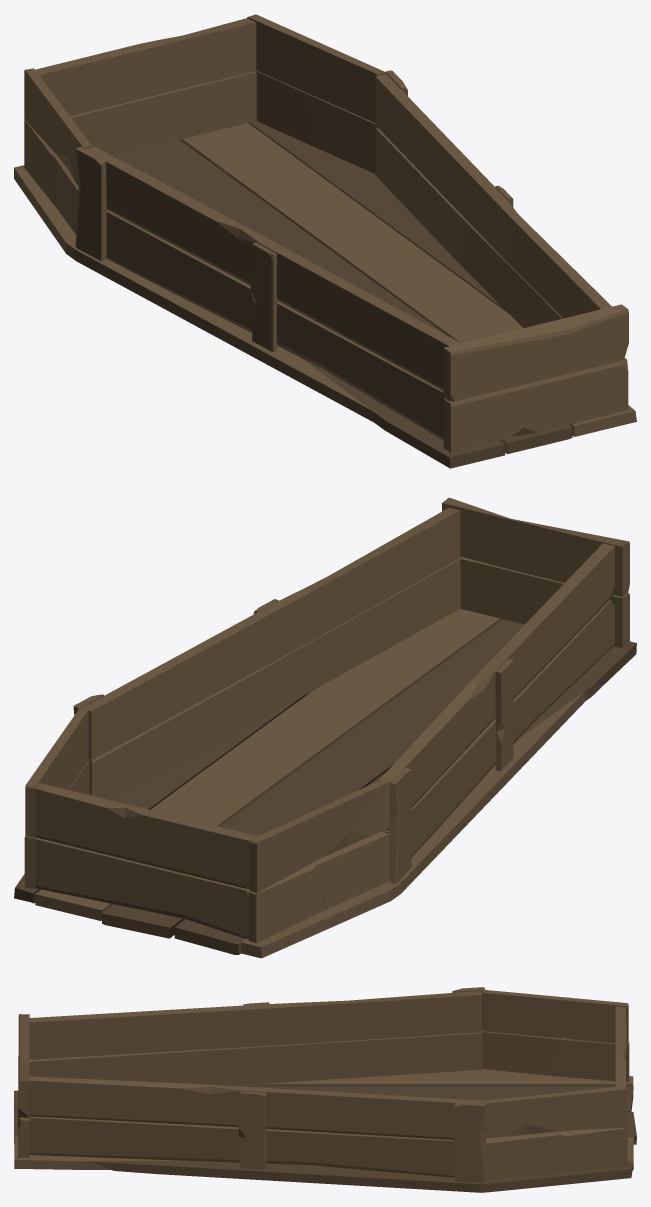
The model's file is WF_LP_HT_Props_Coffin.001.fbx.
The picture shows the model from 3 angles, top to bottom: view 1: azimuth 30°, elevation 25°; view 2: azimuth 150°, elevation 25°; view 3: azimuth 270°, elevation 25°; orthographic projection. The views are drawn at different scales.
Visible parts, largest first — view 1: WF_LP_HT_Props_Coffin.001; view 2: WF_LP_HT_Props_Coffin.001; view 3: WF_LP_HT_Props_Coffin.001.
Boxes of the visible parts, <box> form: WF_LP_HT_Props_Coffin.001: <box>14,14,636,468</box>; WF_LP_HT_Props_Coffin.001: <box>14,497,636,958</box>; WF_LP_HT_Props_Coffin.001: <box>14,987,636,1192</box>.
Size of the model in its own units: 1.01 by 0.3409 by 2.21.
